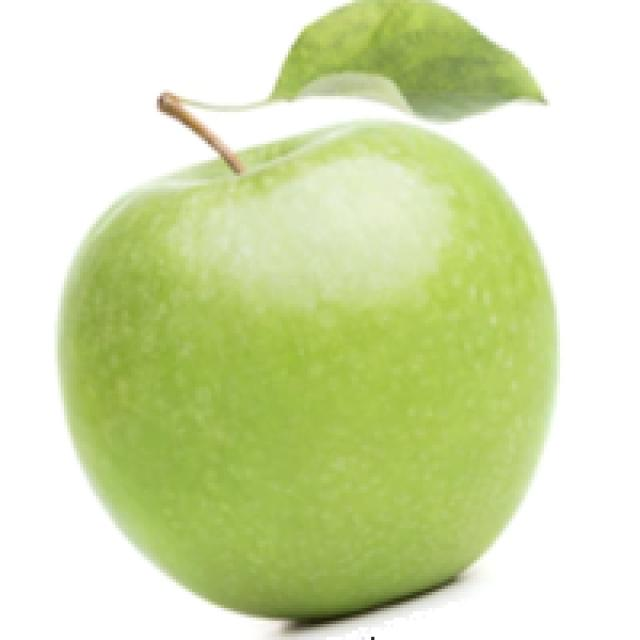apple: (51, 0, 563, 637)
